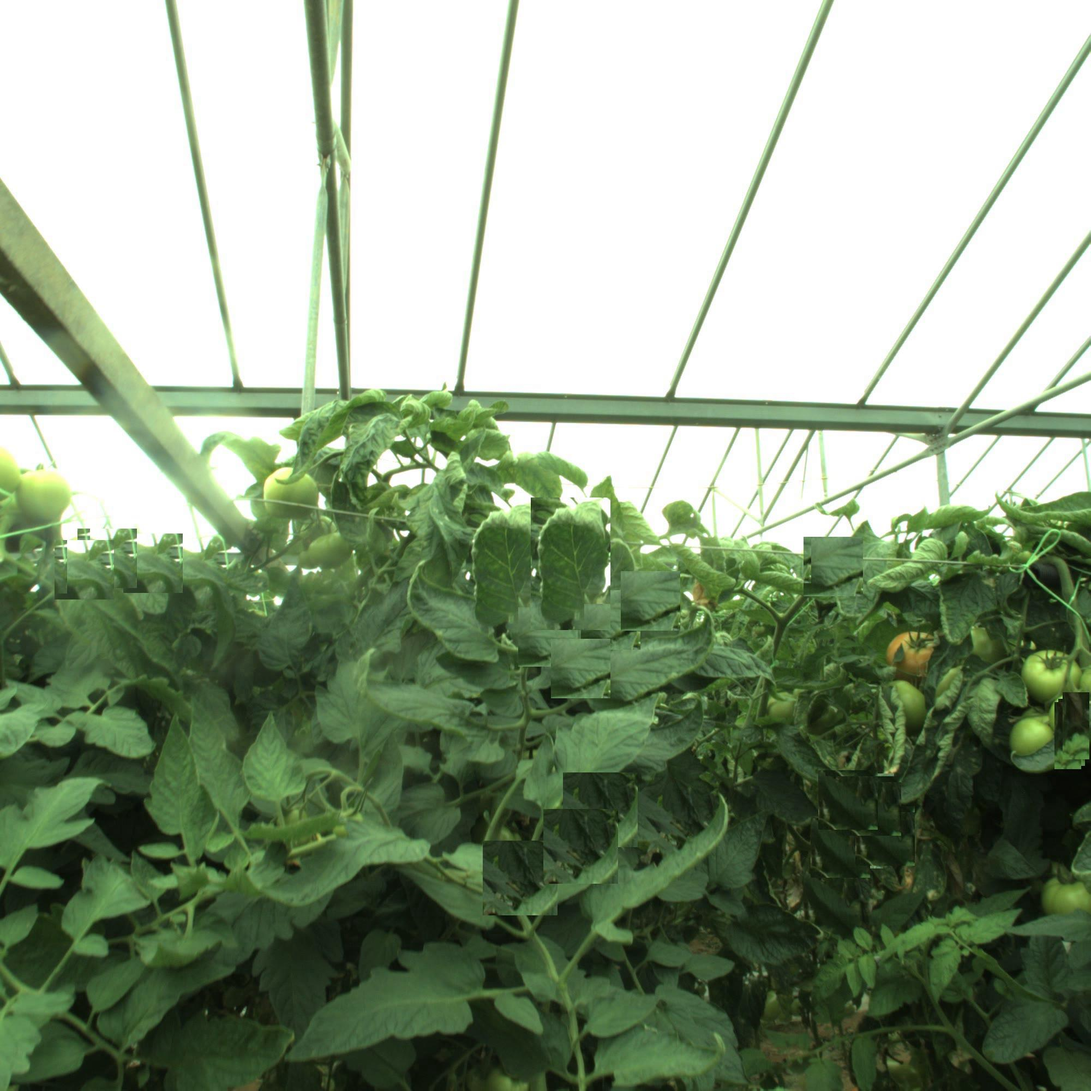fully-ripe: (884, 628, 939, 682)
unripe: (10, 462, 77, 529), (259, 459, 325, 526), (1022, 647, 1076, 702), (1038, 872, 1088, 922), (1010, 716, 1059, 765), (304, 529, 352, 577), (881, 686, 926, 730)
